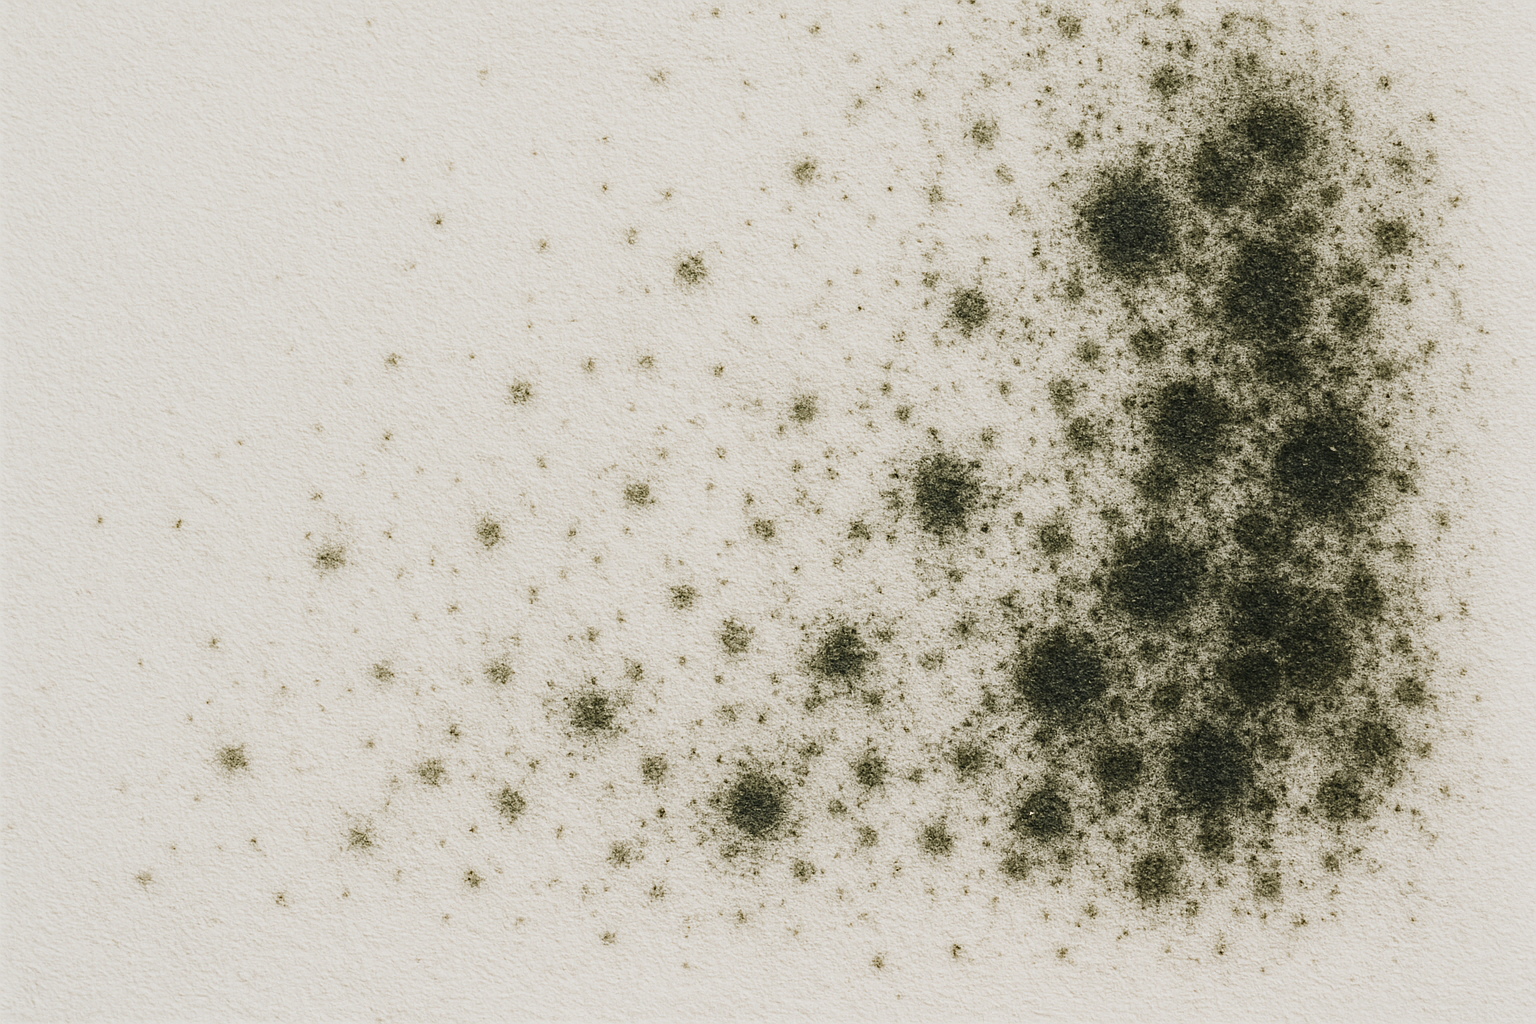schimmel: (1009, 79, 1387, 905), (879, 390, 978, 591), (554, 626, 629, 766), (701, 775, 813, 858), (790, 626, 869, 731)
